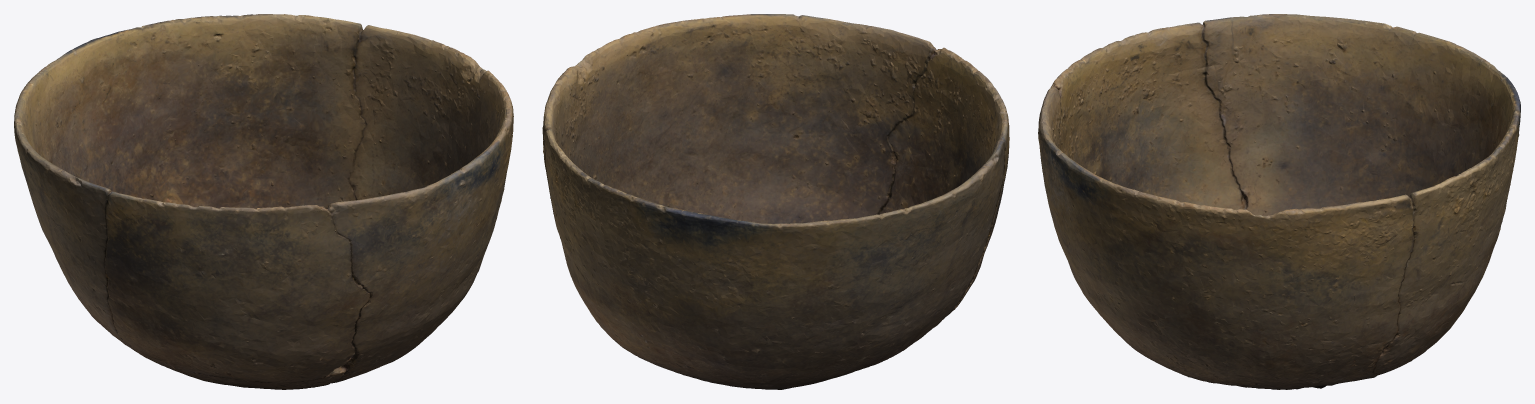
Rendered from Objeto_04_4k-c.glb.
3 renders of one model, left to right at view 1: azimuth 30°, elevation 25°; view 2: azimuth 150°, elevation 25°; view 3: azimuth 270°, elevation 25°, orthographic. The views are drawn at different scales.
Visible parts, largest first — view 1: Mesh_0; view 2: Mesh_0; view 3: Mesh_0.
Part boxes in pixels (x1=…): Mesh_0: x1=14, y1=14, x2=513, y2=389; Mesh_0: x1=542, y1=14, x2=1009, y2=389; Mesh_0: x1=1038, y1=14, x2=1520, y2=389.
Size of the model in its own units: 0.2275 by 0.1245 by 0.2249.
1 material, 1 textured.
